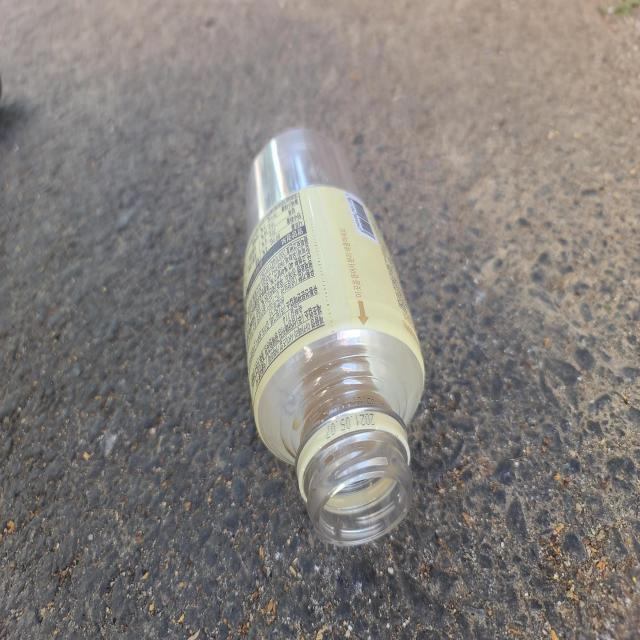plastic: (244, 128, 425, 545)
